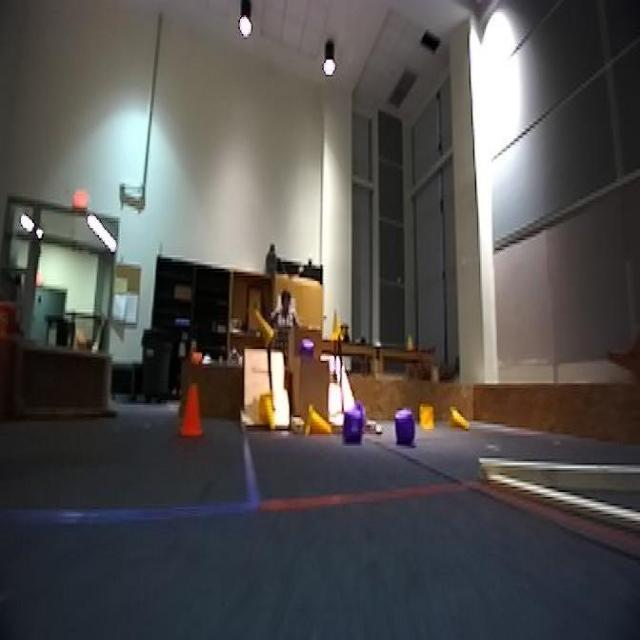frc_cone: (251, 305, 276, 354), (305, 405, 332, 436), (259, 390, 277, 434), (445, 409, 472, 434), (328, 308, 344, 346), (419, 398, 435, 432)
frc_cube: (344, 408, 365, 441), (396, 416, 414, 442), (300, 340, 317, 361)
